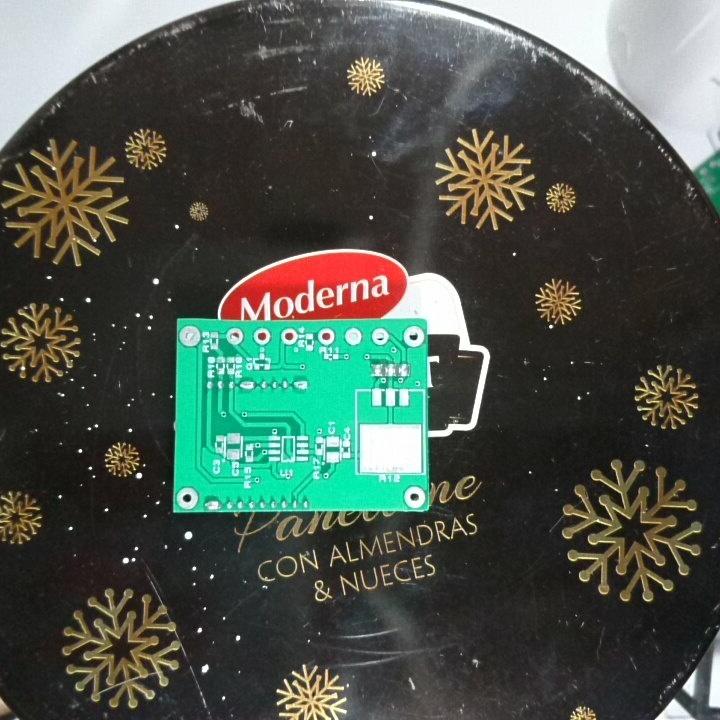F: (399, 324, 425, 349), (402, 484, 428, 509), (178, 323, 202, 350), (176, 485, 199, 511), (342, 326, 365, 351), (367, 326, 392, 348), (315, 326, 337, 349), (251, 327, 274, 348), (279, 327, 300, 349), (224, 326, 246, 346)
P: (291, 375, 311, 393), (201, 495, 222, 512), (237, 377, 257, 394)
